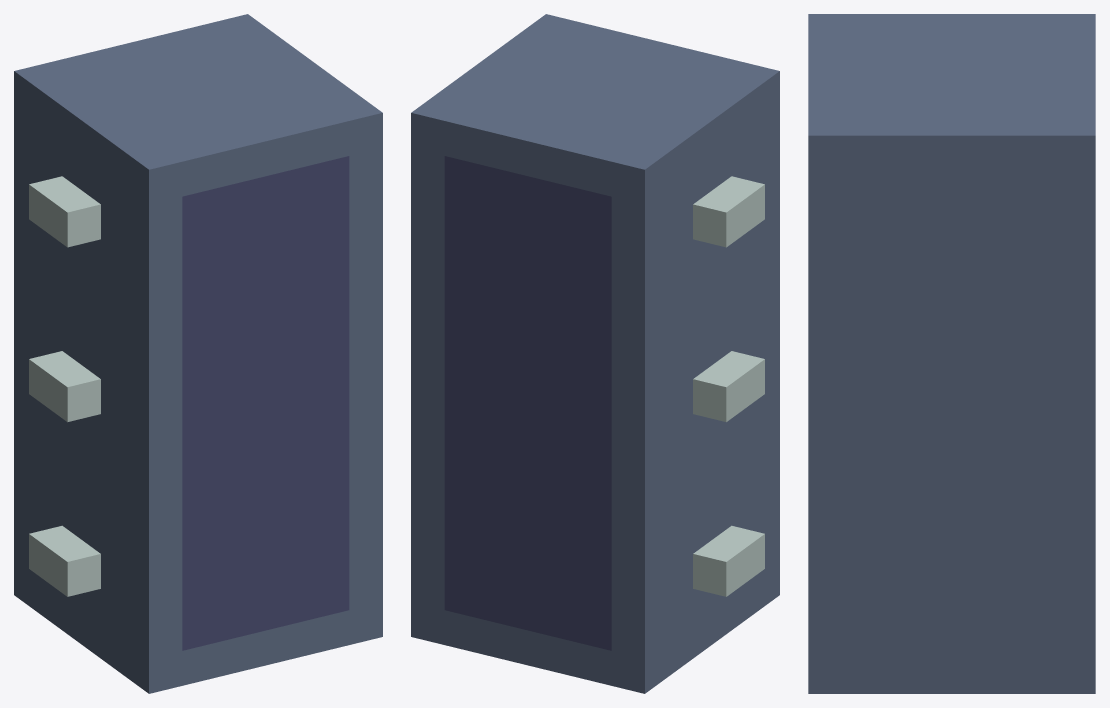
The model's file is File Cabinet v2.glb.
3 views of the same model, side by side, from view 1: azimuth 30°, elevation 25°; view 2: azimuth 150°, elevation 25°; view 3: azimuth 270°, elevation 25° (orthographic). The views are drawn at different scales.
Parts seen in each view (by area): view 1: generated(Clone); view 2: generated(Clone); view 3: generated(Clone).
Part boxes in pixels (x1,y1,x2,y2): generated(Clone): (14,14,382,693); generated(Clone): (411,14,779,693); generated(Clone): (808,14,1095,693).
Bounding box in the file's own units: 8 × 15 × 7.
1 material, 1 textured.
